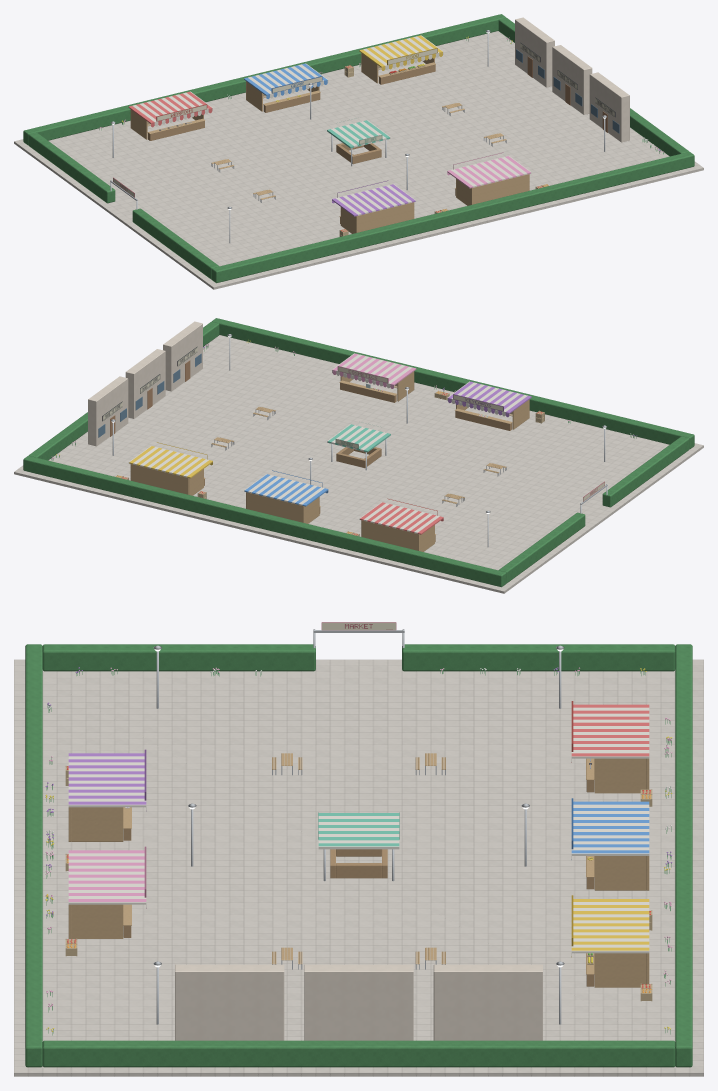
The model's file is market.glb.
3 renders of one model, top to bottom at view 1: azimuth 30°, elevation 25°; view 2: azimuth 150°, elevation 25°; view 3: azimuth 270°, elevation 25°, orthographic. The views are drawn at different scales.
Parts seen in each view (by area): view 1: Paving, Hedge, Facade, Timber, Awning_White, Counter_Wood, Signs, Awning_E, Awning_D, Awning_A, Awning_C, Awning_B (+3 smaller); view 2: Paving, Hedge, Timber, Facade, Awning_White, Counter_Wood, Signs, Awning_A, Awning_B, Awning_C, Awning_E, Awning_D (+3 smaller); view 3: Paving, Hedge, Facade, Awning_White, Timber, Awning_D, Awning_E, Awning_C, Awning_A, Awning_B, Counter_Wood, Steel (+4 smaller).
Boxes of the visible parts, x1,y1,x2,y2 form: Paving: (14, 31, 703, 289); Hedge: (23, 14, 694, 283); Facade: (515, 17, 629, 142); Timber: (130, 53, 529, 233); Awning_White: (132, 35, 531, 215); Counter_Wood: (148, 64, 455, 223); Signs: (113, 42, 615, 197); Awning_E: (124, 37, 663, 188); Awning_D: (332, 184, 415, 216); Awning_A: (128, 91, 212, 127); Awning_C: (359, 35, 442, 70); Awning_B: (244, 63, 327, 98); Paving: (14, 335, 703, 593); Hedge: (23, 318, 694, 587); Timber: (130, 371, 529, 551); Facade: (88, 321, 202, 446); Awning_White: (128, 353, 527, 533); Counter_Wood: (204, 382, 512, 541); Signs: (102, 346, 604, 515); Awning_A: (360, 502, 443, 534); Awning_B: (244, 474, 328, 506); Awning_C: (129, 446, 212, 478); Awning_E: (51, 344, 416, 458); Awning_D: (448, 381, 531, 417); Paving: (14, 659, 703, 1076); Hedge: (25, 644, 692, 1067); Facade: (175, 964, 542, 1040); Awning_White: (68, 707, 649, 955); Timber: (68, 753, 649, 987); Awning_D: (68, 753, 146, 811); Awning_E: (45, 667, 672, 1006); Awning_C: (571, 899, 649, 957); Awning_A: (571, 704, 649, 762); Awning_B: (571, 801, 649, 859); Counter_Wood: (123, 780, 594, 986); Steel: (153, 629, 564, 1024).
Bounding box in the file's own units: 68 × 6.3 × 48.
33 materials, 8 textured.
